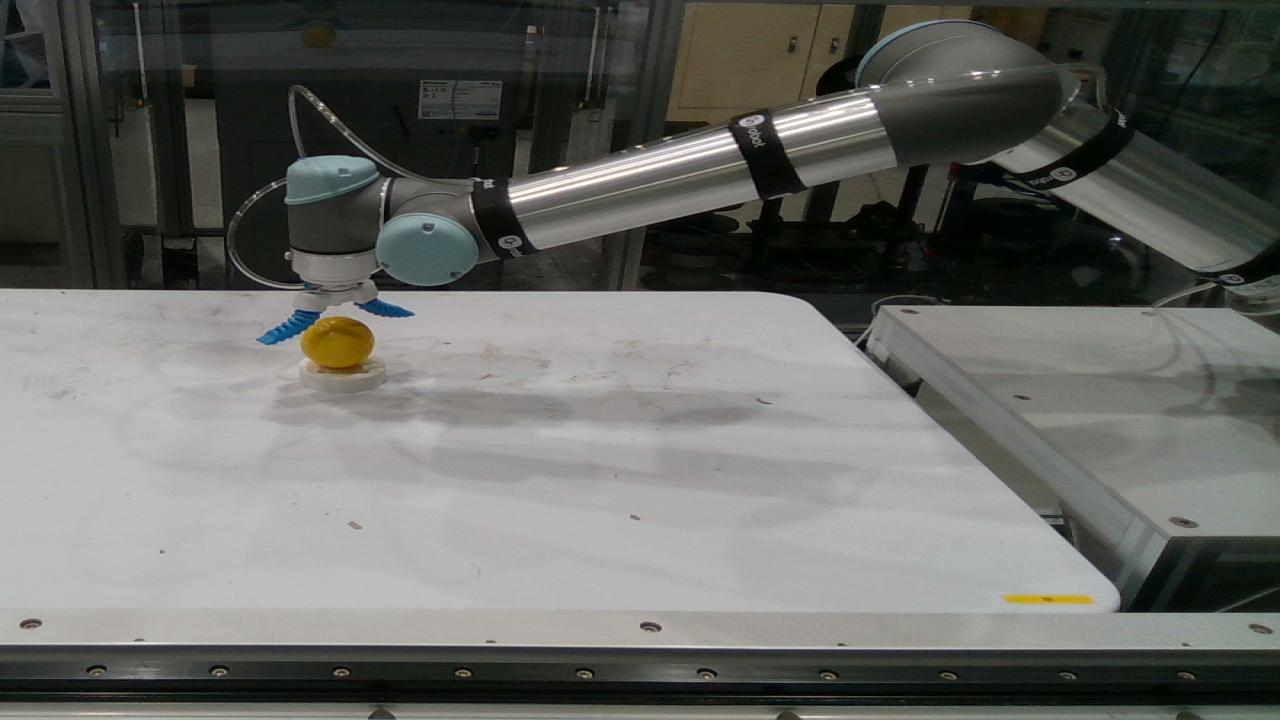UR5: (287, 17, 1279, 333)
gripper_left: (353, 298, 415, 318)
gripper_right: (257, 309, 320, 344)
target: (299, 350, 387, 393), (301, 316, 375, 367)
